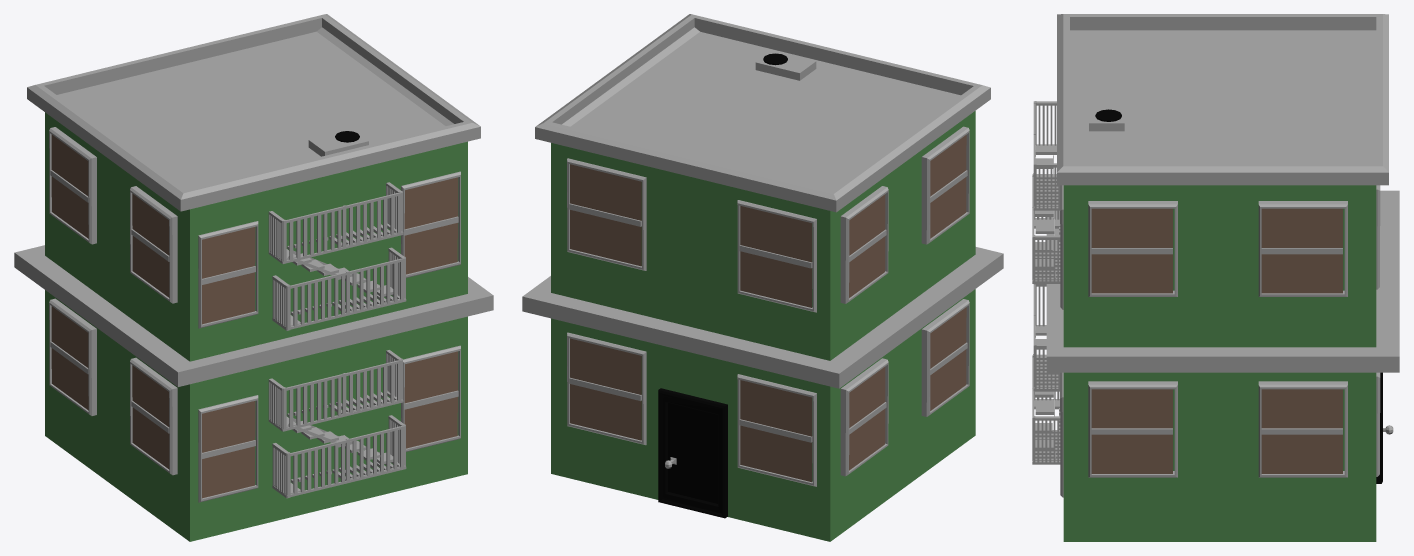
File: IndustryApartments.fbx
3 renders of one model, left to right at view 1: azimuth 30°, elevation 25°; view 2: azimuth 150°, elevation 25°; view 3: azimuth 270°, elevation 25°, orthographic. The views are drawn at different scales.
Visible parts, largest first — view 1: pCube237, pCube239, pCube236, polySurface347, polySurface420, polySurface423, polySurface421, polySurface403, polySurface422, pCube265, pCube266, polySurface414 (+4 smaller); view 2: pCube237, pCube239, pCube236, pSphere14, polySurface418, polySurface430, polySurface432, polySurface431, polySurface424, polySurface429, polySurface414, polySurface428 (+1 smaller); view 3: pCube237, pCube239, pCube236, polySurface404, polySurface425, polySurface426, polySurface427, pCube266, polySurface420, polySurface347, pCube265, pCube238 (+5 smaller).
Boxes of the visible parts, x1=… form: pCube237: x1=45, y1=112, x2=467, y2=541; pCube239: x1=27, y1=14, x2=480, y2=211; pCube236: x1=14, y1=245, x2=493, y2=386; polySurface347: x1=272, y1=415, x2=406, y2=498; polySurface420: x1=272, y1=247, x2=406, y2=330; polySurface423: x1=198, y1=395, x2=258, y2=502; polySurface421: x1=198, y1=221, x2=258, y2=328; polySurface403: x1=401, y1=171, x2=460, y2=277; polySurface422: x1=401, y1=345, x2=460, y2=451; pCube265: x1=268, y1=350, x2=403, y2=431; pCube266: x1=268, y1=182, x2=403, y2=263; polySurface414: x1=130, y1=357, x2=177, y2=475; pCube237: x1=551, y1=111, x2=975, y2=541; pCube239: x1=535, y1=14, x2=990, y2=212; pCube236: x1=522, y1=247, x2=1003, y2=388; pSphere14: x1=658, y1=388, x2=727, y2=518; polySurface418: x1=737, y1=374, x2=816, y2=486; polySurface430: x1=567, y1=332, x2=646, y2=445; polySurface432: x1=737, y1=200, x2=816, y2=312; polySurface431: x1=567, y1=158, x2=646, y2=270; polySurface424: x1=840, y1=358, x2=888, y2=476; polySurface429: x1=921, y1=126, x2=969, y2=244; polySurface414: x1=921, y1=299, x2=969, y2=416; polySurface428: x1=840, y1=186, x2=888, y2=303; pCube237: x1=1063, y1=185, x2=1376, y2=541; pCube239: x1=1057, y1=14, x2=1388, y2=185; pCube236: x1=1046, y1=190, x2=1399, y2=372; polySurface404: x1=1088, y1=381, x2=1177, y2=477; polySurface425: x1=1258, y1=381, x2=1347, y2=477; polySurface426: x1=1258, y1=201, x2=1347, y2=296; polySurface427: x1=1088, y1=201, x2=1177, y2=296; pCube266: x1=1033, y1=101, x2=1059, y2=210; polySurface420: x1=1032, y1=145, x2=1060, y2=283; polySurface347: x1=1032, y1=326, x2=1060, y2=464; pCube265: x1=1033, y1=284, x2=1059, y2=391; pCube238: x1=1089, y1=100, x2=1124, y2=131.
Bounding box in the file's own units: 52.57 × 55.8 × 49.14.
